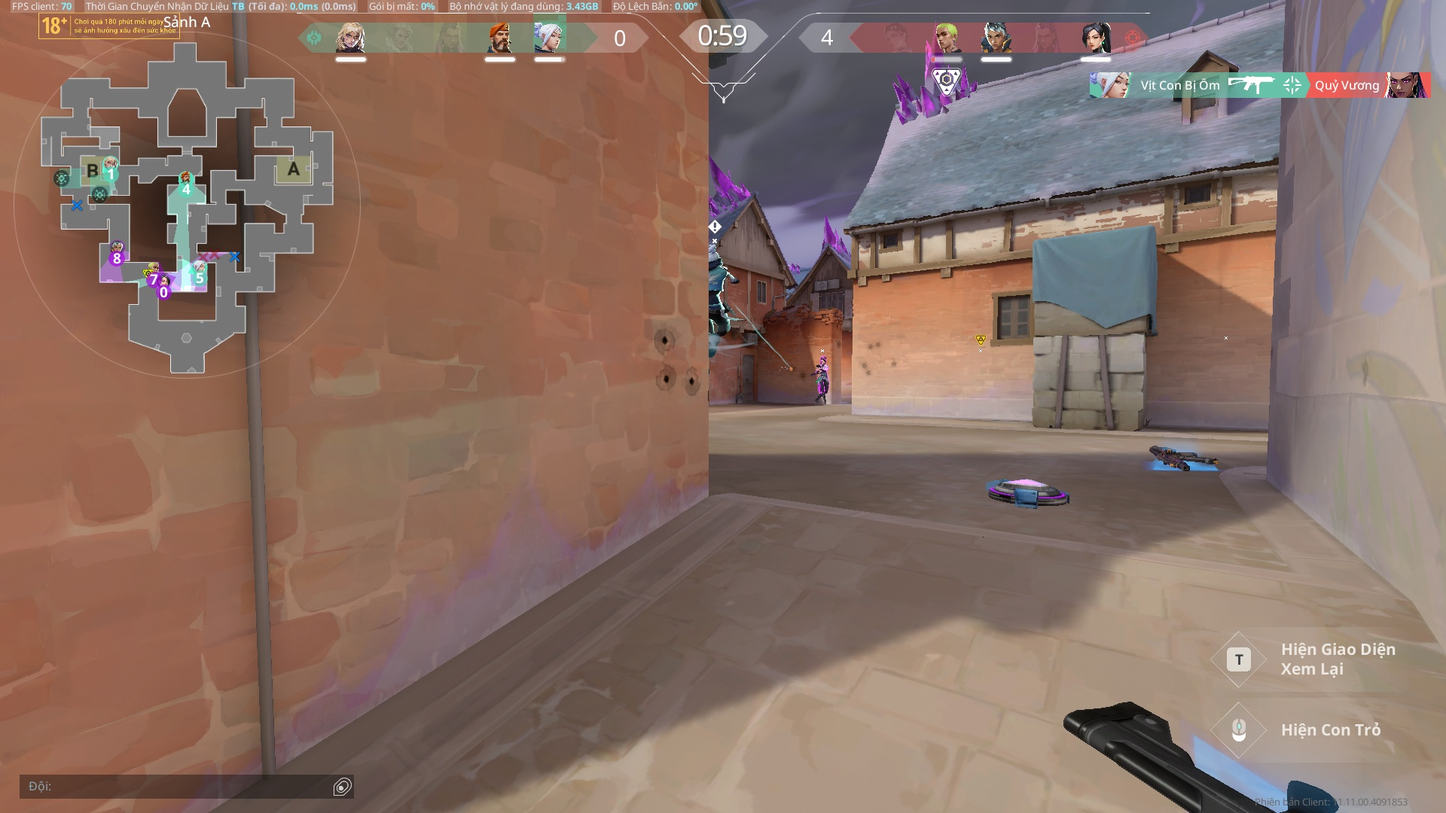body: (816, 362, 829, 379)
head: (819, 356, 827, 364)
